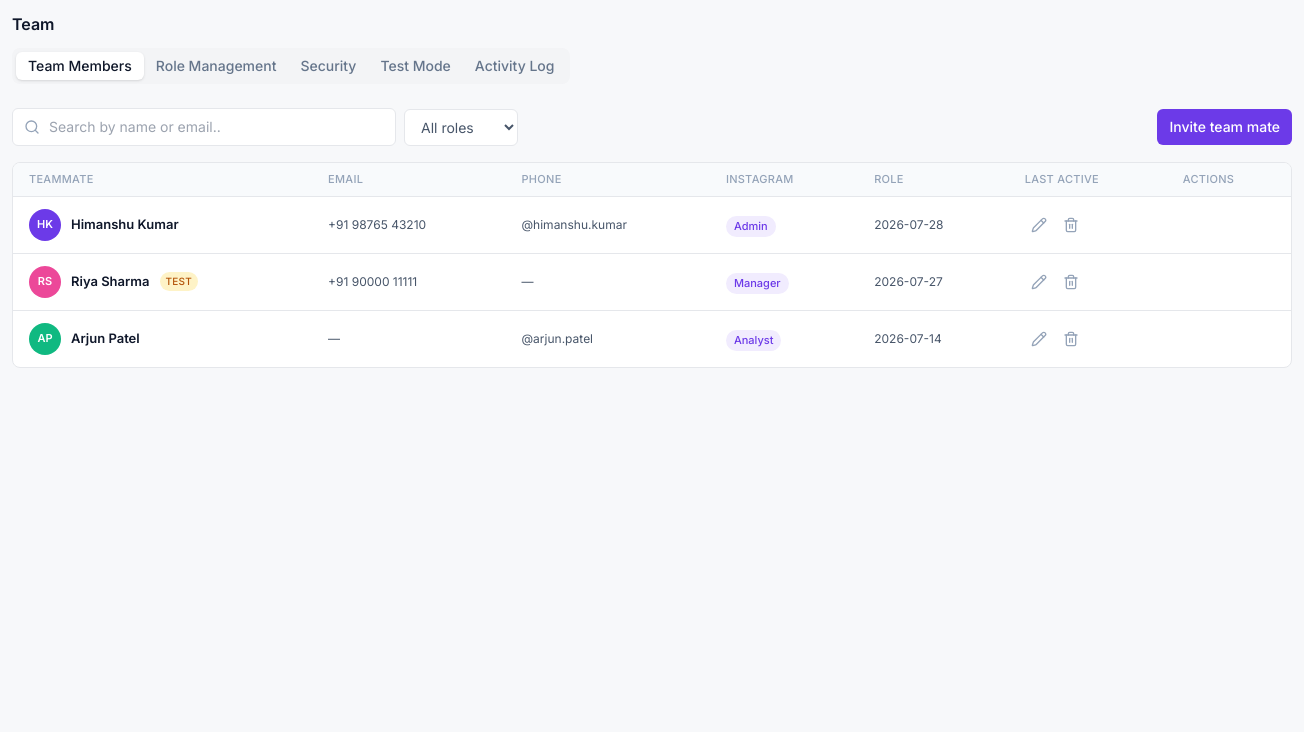
TeamManagementPanel › clicking a role's user count jumps to Team Members filtered to that role
Press the mouse on the tab with test id "team-tab-roles" at [216, 66], box x1=144 y1=52 x2=288 y2=80
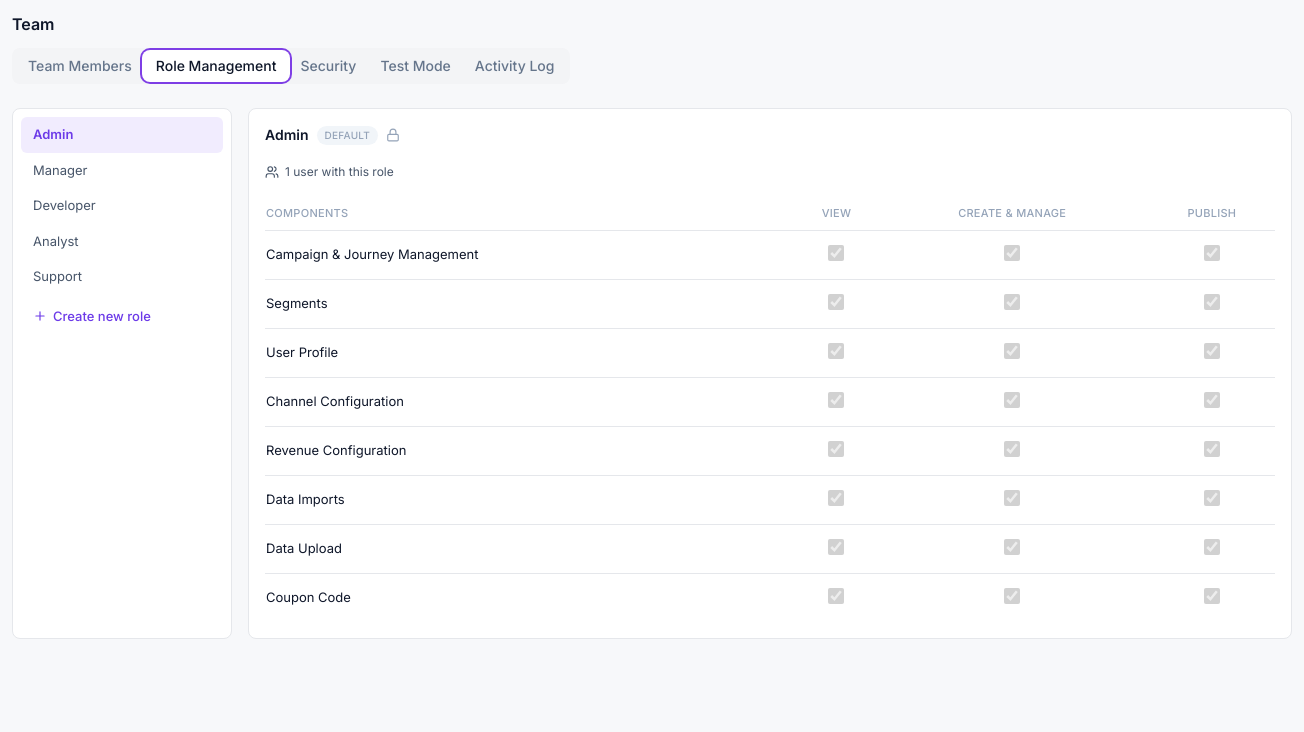
Click the button with test id "role-nav-manager" at [122, 170], box x1=21 y1=152 x2=223 y2=188
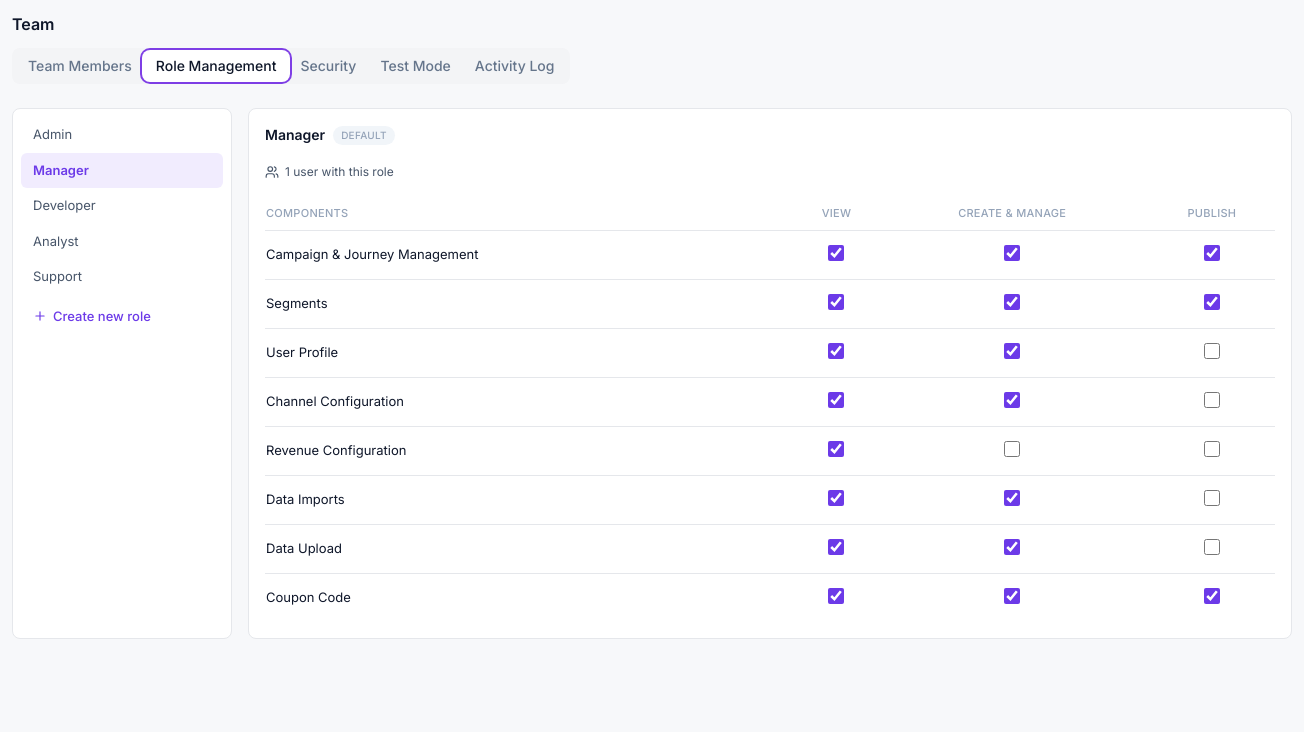
Click the button with test id "role-user-count-manager" at [329, 172], box x1=265 y1=163 x2=394 y2=181
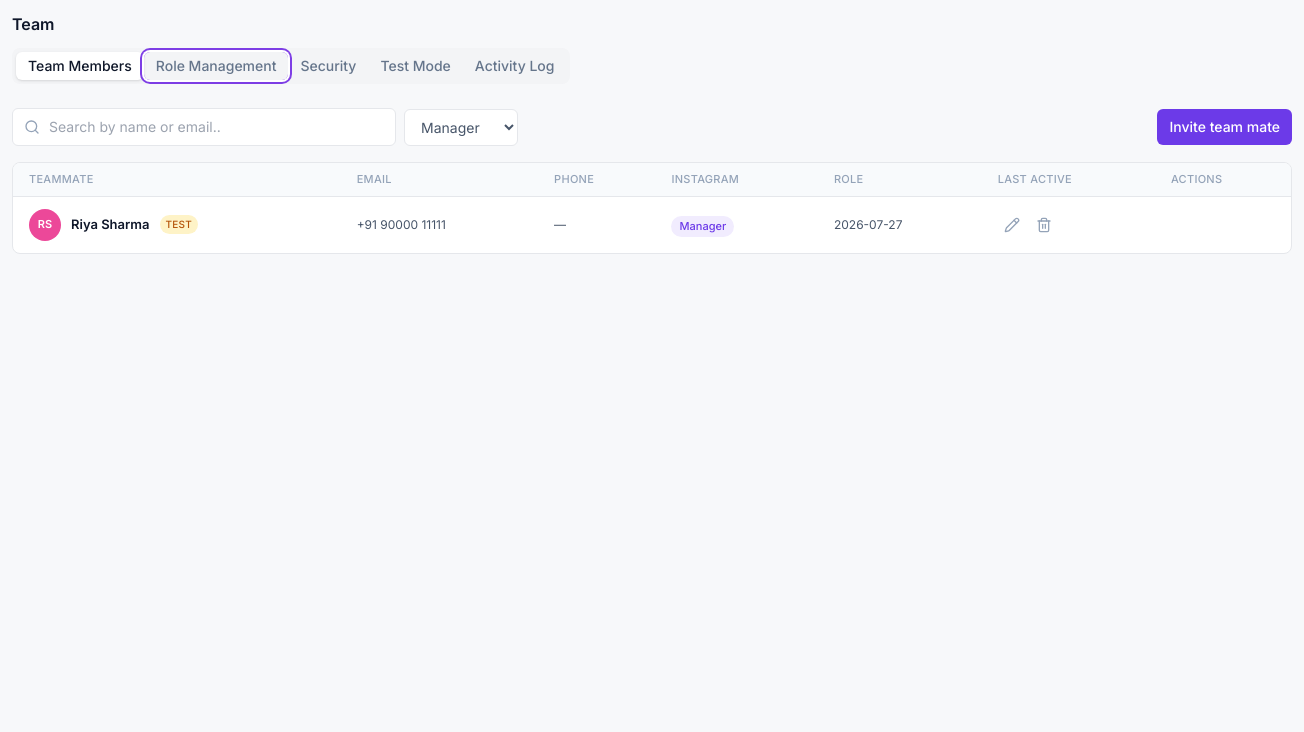
Now the element with test id "team-members-tab" is shown, box x1=12 y1=108 x2=1292 y2=254
Now the dropdown with test id "team-members-role-filter" shows "Manager", box x1=404 y1=108 x2=518 y2=146
Now the row with test id "team-member-row-riya@tspkarix.com" is shown, box x1=13 y1=196 x2=1291 y2=252
